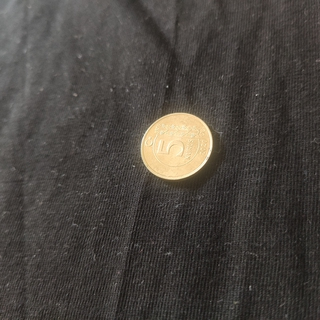5KURUS: (138, 110, 215, 182)
